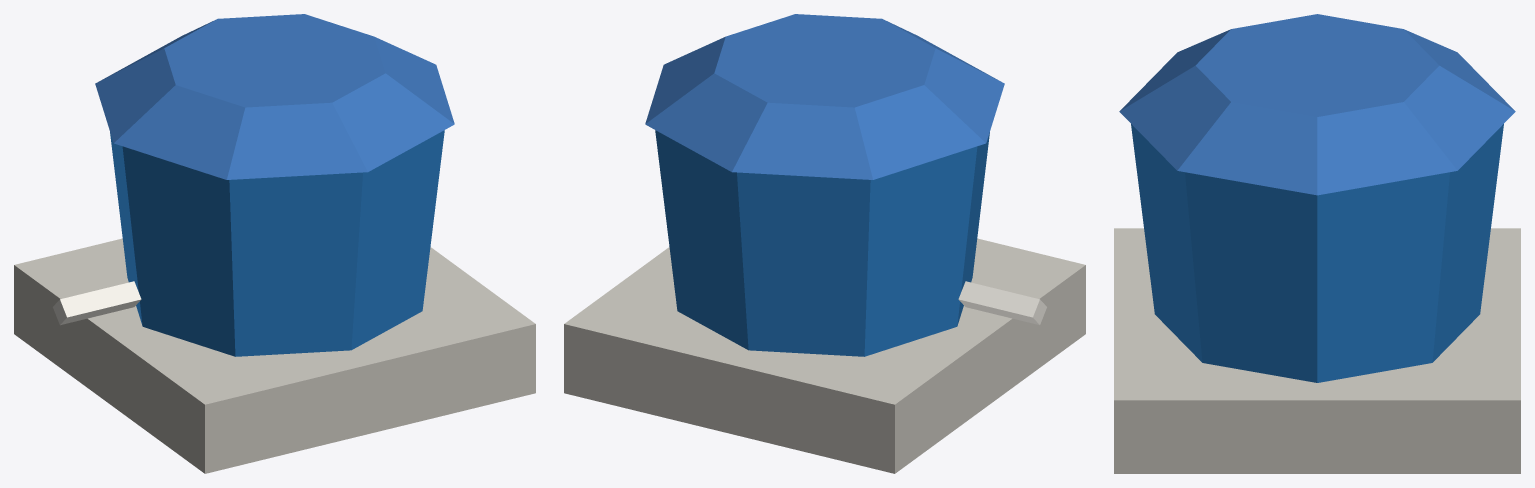
The model's file is caixa_dagua.glb.
3 views of the same model, side by side, from view 1: azimuth 30°, elevation 25°; view 2: azimuth 150°, elevation 25°; view 3: azimuth 270°, elevation 25° (orthographic). The views are drawn at different scales.
Visible parts, largest first — view 1: corpo; view 2: corpo; view 3: corpo.
Part boxes in pixels (x1,y1,x2,y2): corpo: (14,14,535,473); corpo: (564,14,1085,473); corpo: (1114,14,1520,473).
Bounding box in the file's own units: 0.46 × 0.35 × 0.4.
